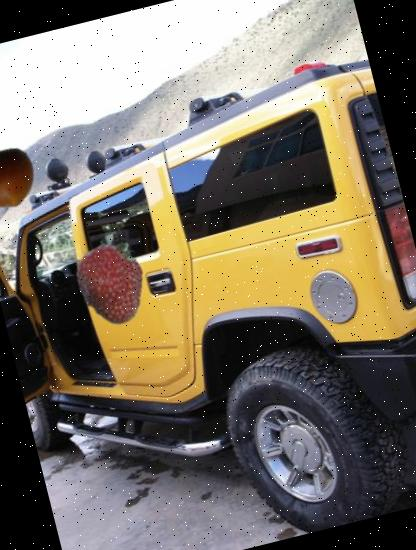Nut: (0, 139, 46, 221)
Strawberry: (61, 230, 166, 335)
